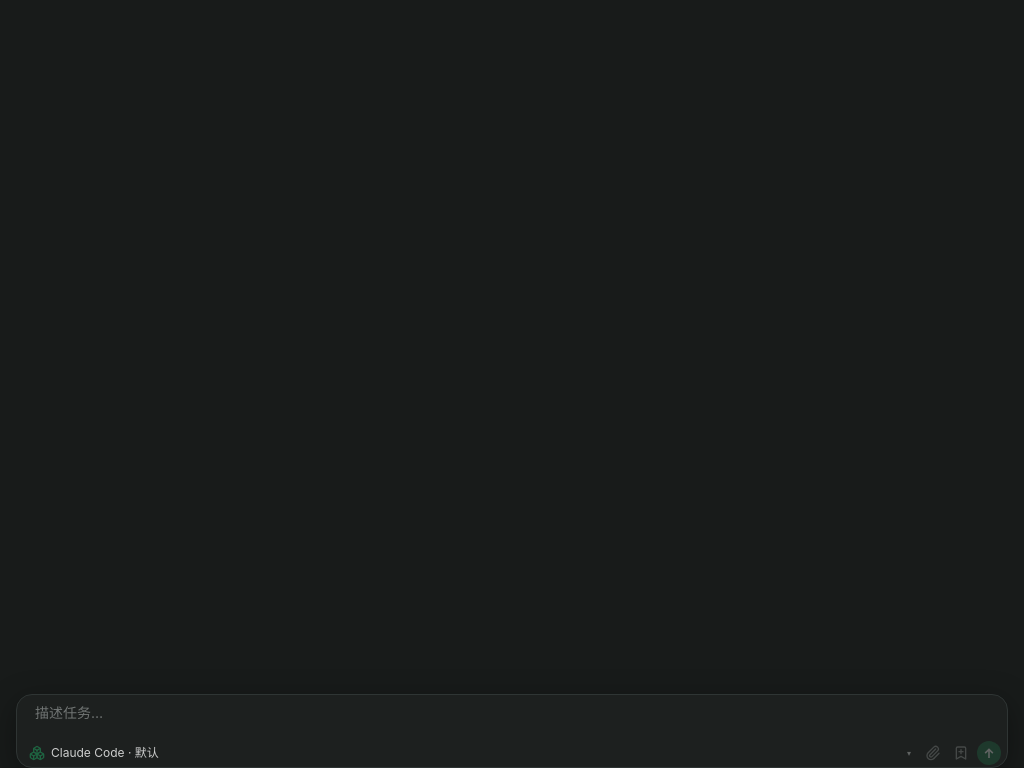
the slash command menu › does not reopen a bare-slash menu behind runtime settings
Type "/" into the text box named "任务描述" at (512, 719), box [23,697,1001,741]
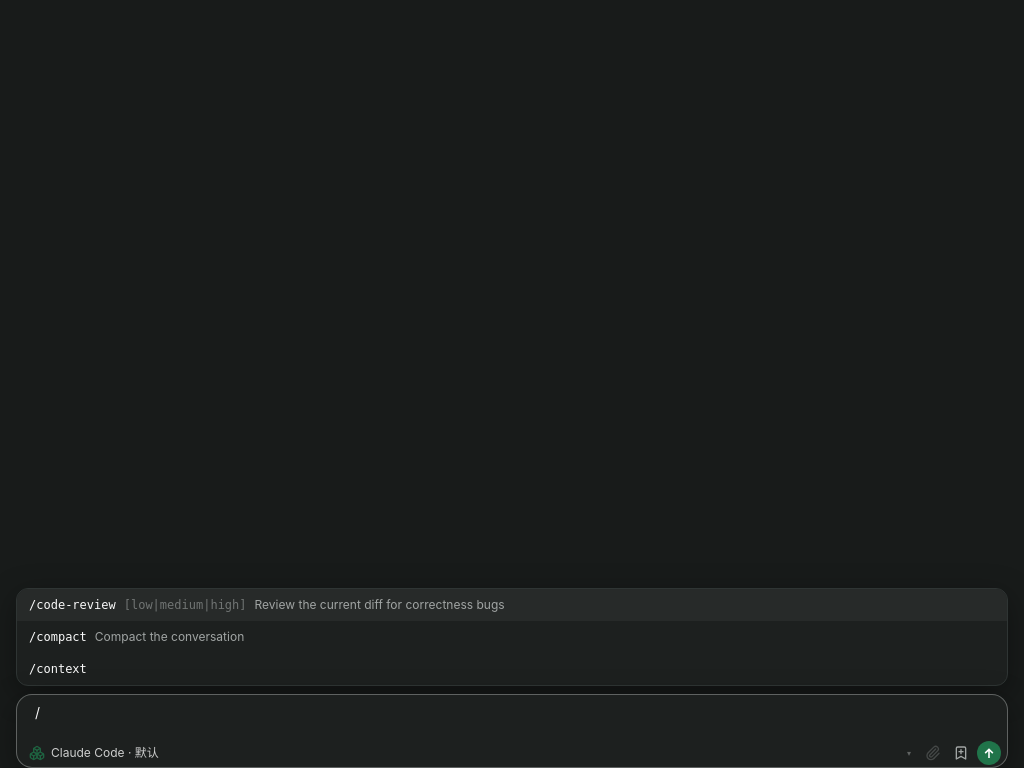
Now the list named "命令" is shown, box [17,589,1007,685]
Click the button with aria-label "模型：" at (105, 752), box [23,741,917,765]
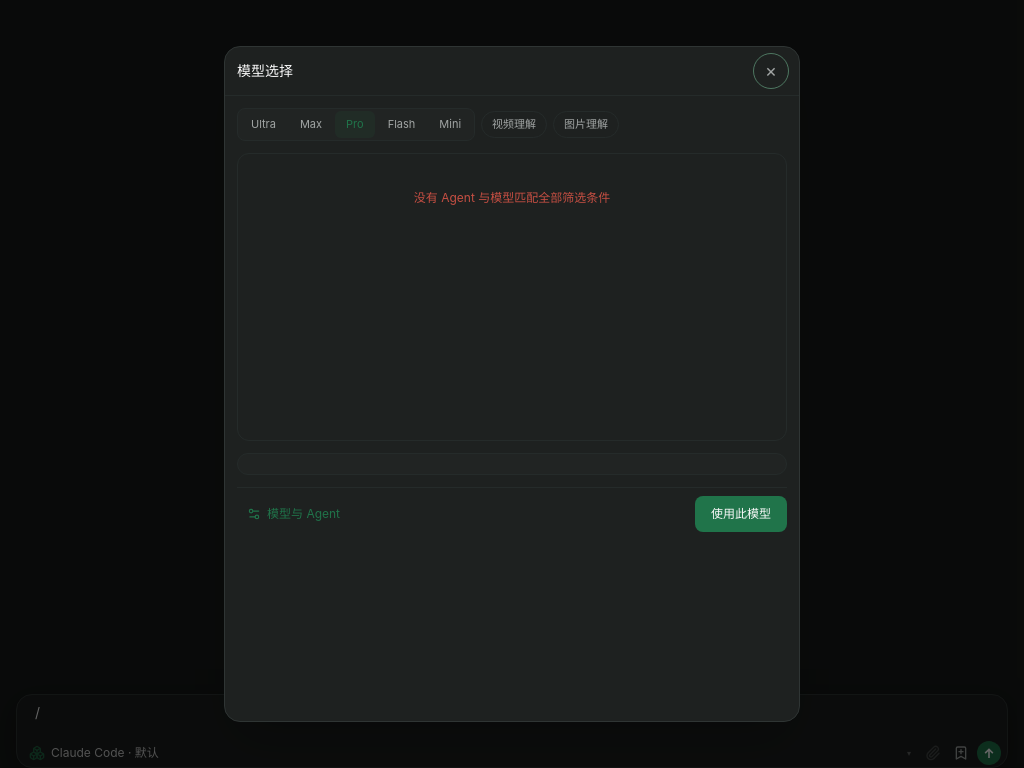
Now the list "命令" is gone
Click the button named "关闭设置" at (771, 71), box [755,55,787,87]
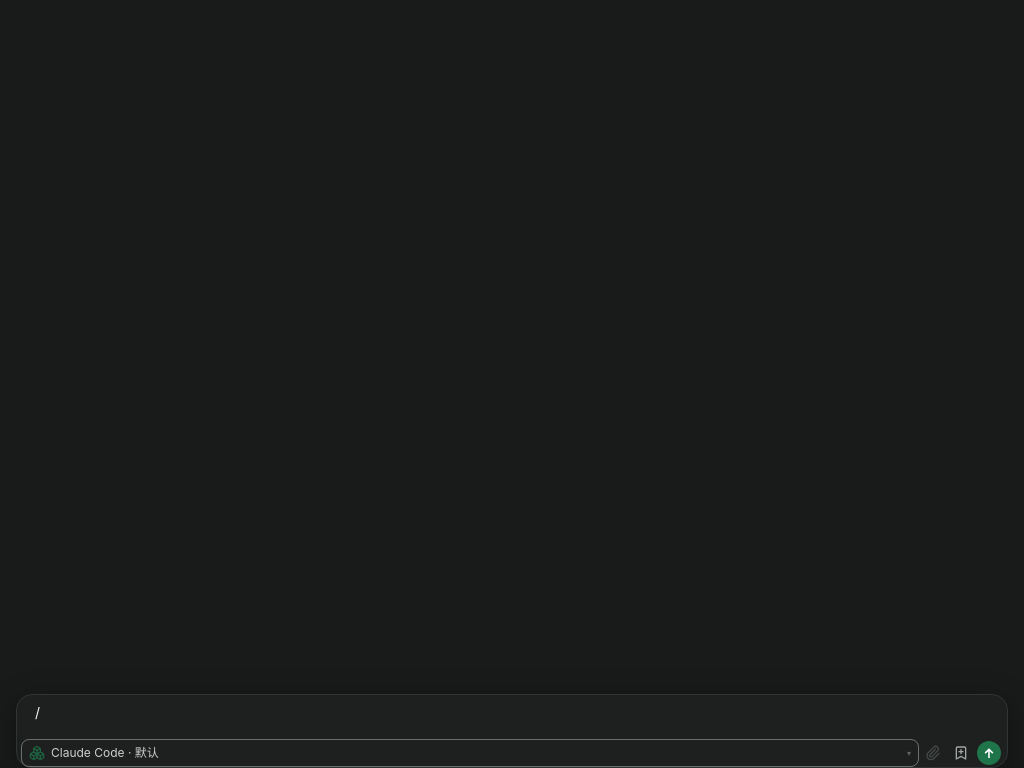
Click the text box named "任务描述" at (512, 719), box [23,697,1001,741]
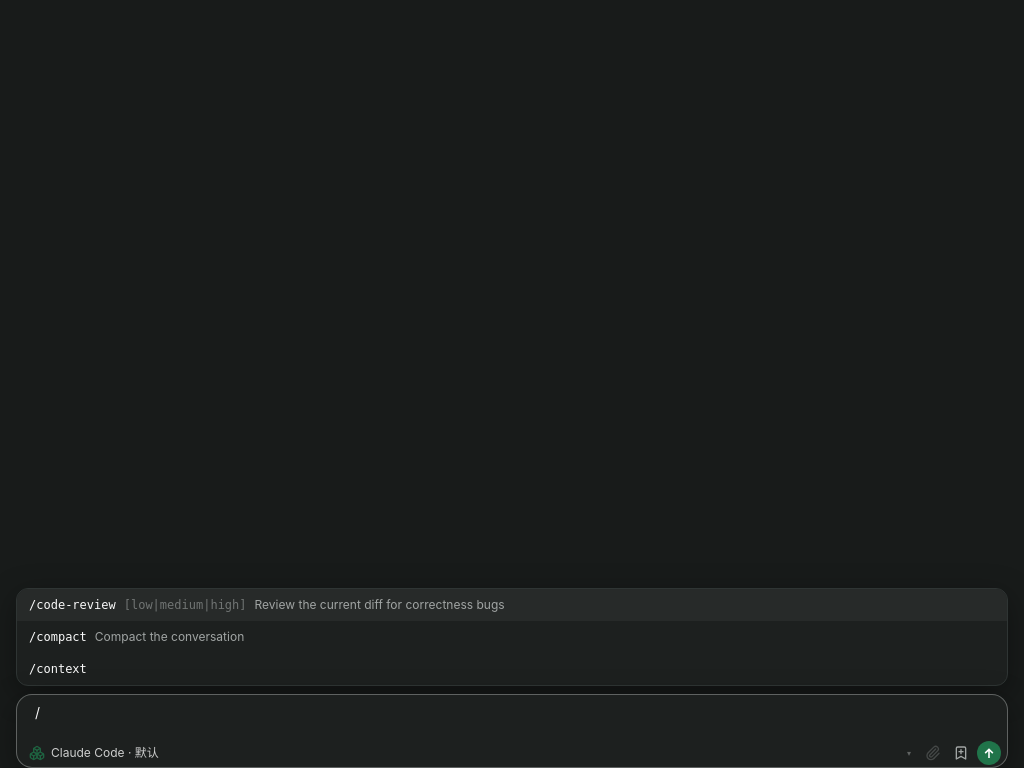
Now the list named "命令" is shown, box [17,589,1007,685]
